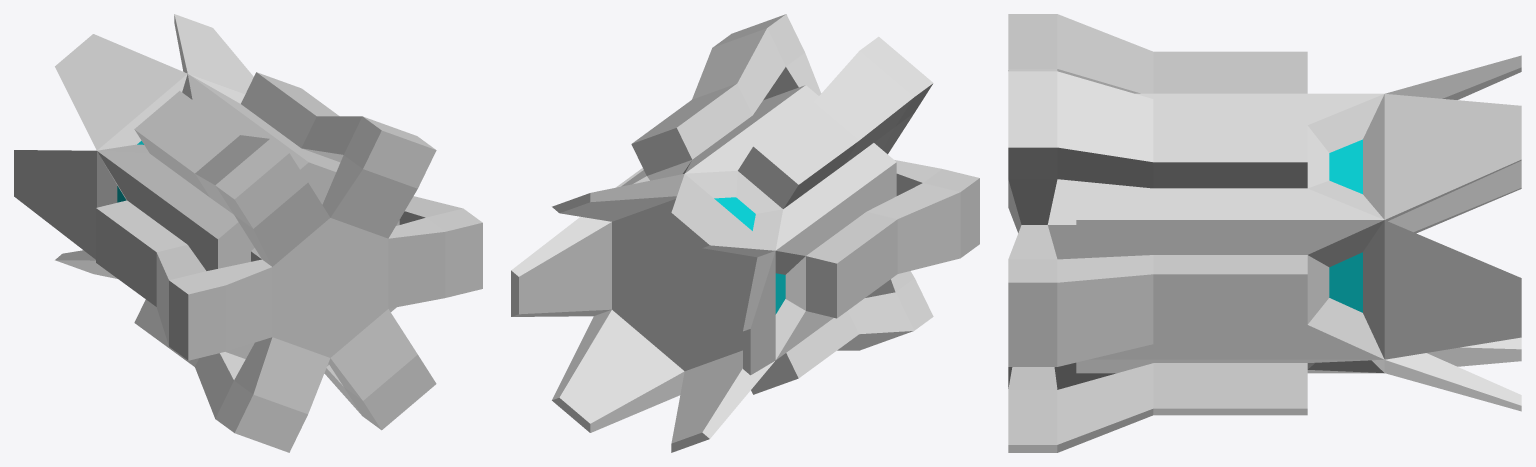
Rendered from Hexagon decoration 5.2.fbx.
3 views of the same model, side by side, from view 1: azimuth 30°, elevation 25°; view 2: azimuth 150°, elevation 25°; view 3: azimuth 270°, elevation 25° (orthographic). The views are drawn at different scales.
Visible parts, largest first — view 1: Circle.001; view 2: Circle.001; view 3: Circle.001.
Boxes of the visible parts, <box> form: Circle.001: <box>14,14,482,452</box>; Circle.001: <box>511,14,979,452</box>; Circle.001: <box>1008,14,1521,452</box>.
Size of the model in its own units: 94.69 by 92.19 by 112.
